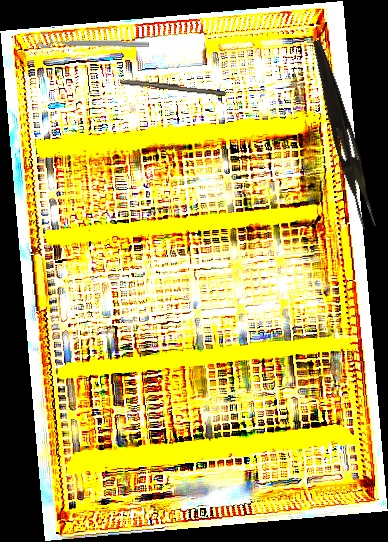Dressing Forceps: (302, 38, 384, 231)
Fixation Ring: (37, 31, 150, 50)
Scalpel Handle: (119, 77, 227, 97)
